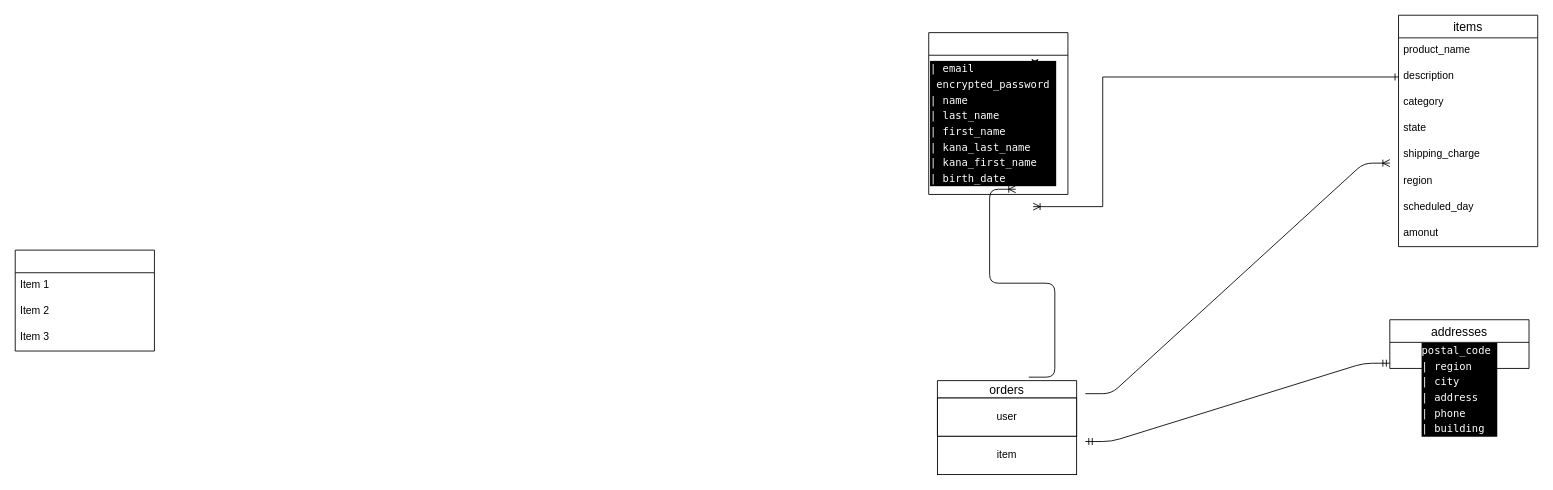
The diagram is 1553 pixels wide and 490 high, and some of its shapes have lost their labels. Each missing label, with the box of its shape:
List: (14, 249, 154, 351)
users: (928, 32, 1068, 194)
